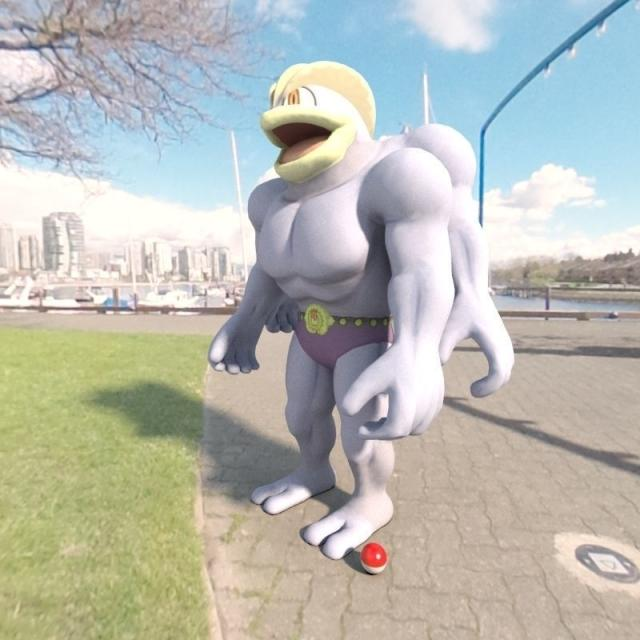Machamp: (189, 45, 521, 588)
